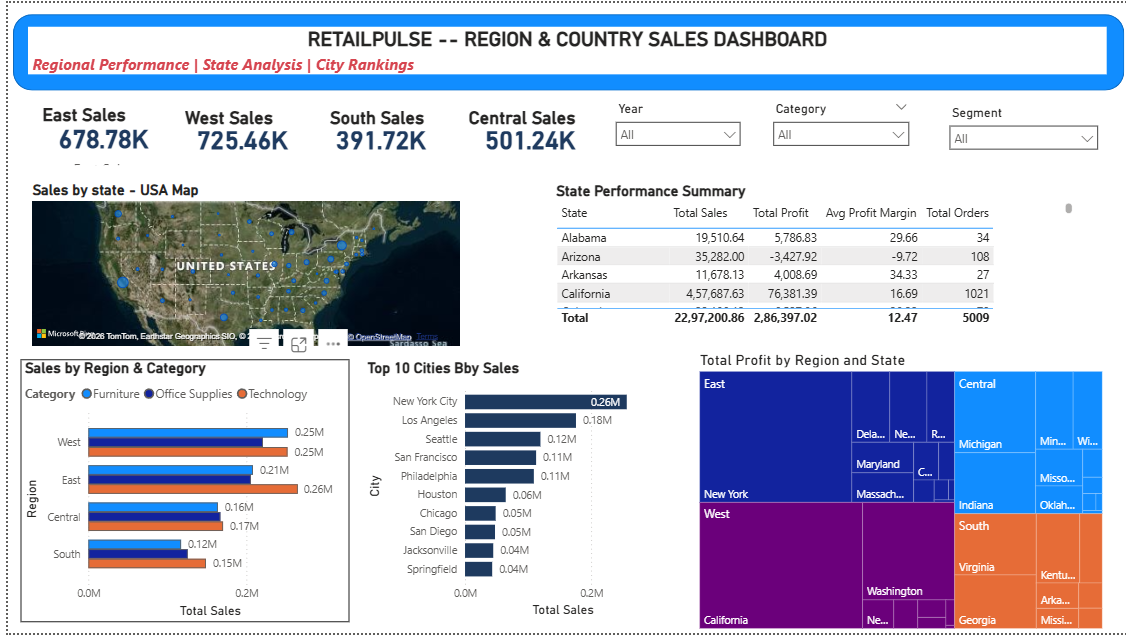

What the dashboard file says about the page in this screenshot:
{"tool":"powerbi","page":{"name":"Region Sales Dashboard","canvas":[1280,720],"ordinal":4},"visuals":[{"type":"shape","box":[5.7,12.9,1270,87.1],"z":0},{"type":"textbox","title":"RETAILPULSE -- REGION & COUNTRY SALES DASHBOARD","box":[22.9,27.1,1232.9,54.3],"z":1},{"type":"map","title":"Sales by state - USA Map","fields":{"Category":["Sales Measures.State"],"Size":["Sales Measures.Total Sales"]},"box":[22.9,202.9,498.6,194.3],"z":2},{"type":"card","title":"West Sales ","fields":{"Values":["Date Table.West Sales"]},"box":[197.1,118.6,141.4,71.4],"z":3},{"type":"card","title":"East Sales ","fields":{"Values":["Date Table.East Sales"]},"box":[34.3,115.7,150,74.3],"z":4},{"type":"card","title":"Central Sales ","fields":{"Values":["Date Table.Central Sales"]},"box":[521.4,118.6,150,71.4],"z":5},{"type":"card","title":"South Sales","fields":{"Values":["Date Table.South Sales"]},"box":[362.9,118.6,127.1,71.4],"z":6},{"type":"clusteredBarChart","title":"Sales by Region & Category ","fields":{"Category":["Sales Measures.Region"],"Y":["Sales Measures.Total Sales"],"Series":["Sales Measures.Category"]},"box":[14.3,407.1,375.7,300],"z":7},{"type":"tableEx","title":"State Performance Summary","fields":{"Values":["Sales Measures.State","Sales Measures.Total Sales","Sales Measures.Total Profit","Sales Measures.Avg Profit Margin","Sales Measures.Total Orders"]},"box":[621.4,204.3,600,170],"z":8},{"type":"clusteredBarChart","title":"Top 10 Cities Bby Sales","fields":{"Category":["Sales Measures.City"],"Y":["Sales Measures.Total Sales"]},"box":[405.7,407.1,360,300],"z":9},{"type":"treemap","fields":{"Group":["Sales Measures.Region"],"Details":["Sales Measures.State"],"Values":["Sales Measures.Total Profit"]},"box":[785.7,397.1,470,322.9],"z":10},{"type":"slicer","fields":{"Values":["Date Table.Year"]},"box":[684.3,107.1,162.9,71.4],"z":11},{"type":"slicer","fields":{"Values":["Sales Measures.Category"]},"box":[864.3,107.1,175.7,71.4],"z":12},{"type":"slicer","fields":{"Values":["Sales Measures.Segment"]},"box":[1065.7,111.4,190,67.1],"z":13}]}

Visuals, with their boxes in screenshot pixels (x1, y1, x2, y2), scaled from the page's 1280x720 canvas onto the 1126x636 screenshot:
shape: 5 11 1122 88
"RETAILPULSE -- REGION & COUNTRY SALES DASHBOARD" textbox: 20 24 1105 72
"Sales by state - USA Map" map: 20 179 459 351
"West Sales " card: 173 105 298 168
"East Sales " card: 30 102 162 168
"Central Sales " card: 459 105 591 168
"South Sales" card: 319 105 431 168
"Sales by Region & Category " clusteredBarChart: 13 360 343 625
"State Performance Summary" tableEx: 547 180 1074 331
"Top 10 Cities Bby Sales" clusteredBarChart: 357 360 674 625
treemap - Sales Measures.Region x Sales Measures.State: 691 351 1105 635
slicer - Date Table.Year: 602 95 745 158
slicer - Sales Measures.Category: 760 95 915 158
slicer - Sales Measures.Segment: 937 98 1105 158
